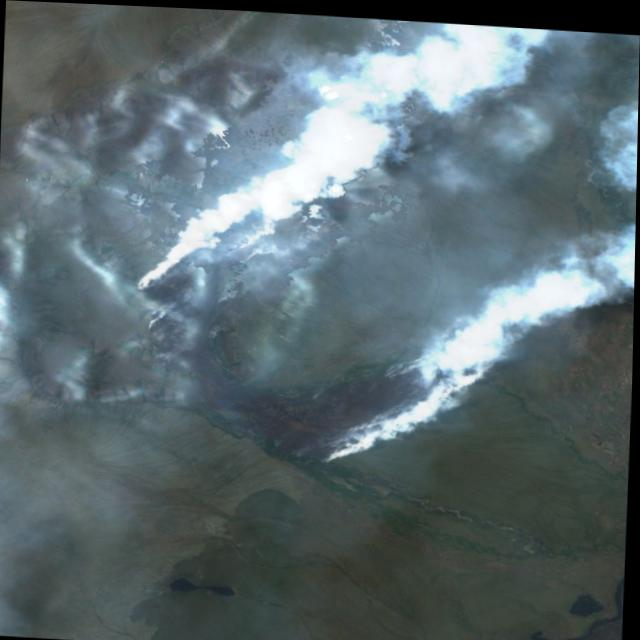fire: (135, 305, 175, 362), (368, 353, 420, 385), (119, 264, 164, 298), (313, 431, 356, 466), (228, 242, 272, 268)
